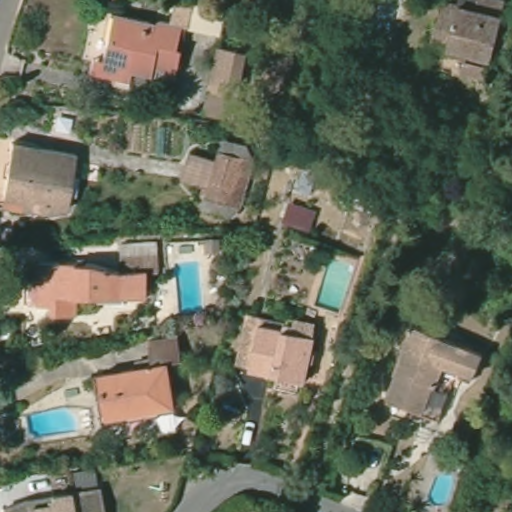pool: (168, 258, 209, 322), (316, 253, 354, 314), (26, 403, 86, 441), (426, 462, 458, 507)
